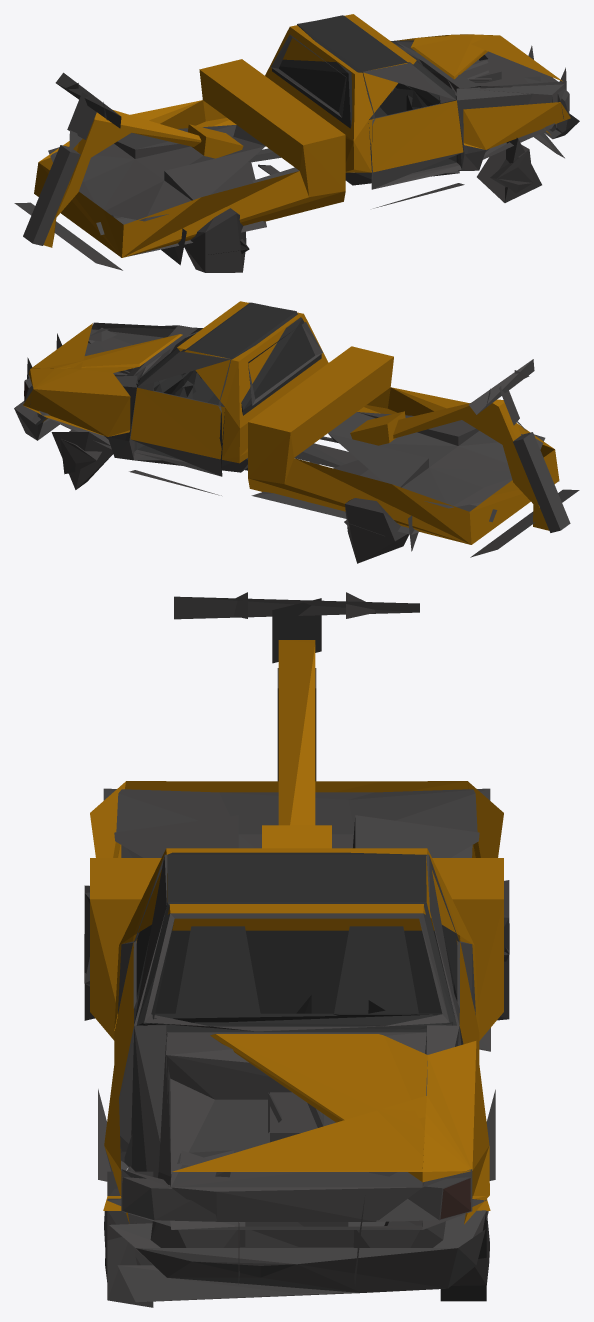
The model's file is tow-truck.lod1.glb.
3 renders of one model, top to bottom at view 1: azimuth 30°, elevation 25°; view 2: azimuth 150°, elevation 25°; view 3: azimuth 270°, elevation 25°, orthographic. The views are drawn at different scales.
Parts seen in each view (by area): view 1: UTLTRUCK90_Bumper_Front_UTLTRUCK90_Bodymat_0; view 2: UTLTRUCK90_Bumper_Front_UTLTRUCK90_Bodymat_0; view 3: UTLTRUCK90_Bumper_Front_UTLTRUCK90_Bodymat_0.
Boxes of the visible parts, <box> form: UTLTRUCK90_Bumper_Front_UTLTRUCK90_Bodymat_0: <box>14,14,579,272</box>; UTLTRUCK90_Bumper_Front_UTLTRUCK90_Bodymat_0: <box>14,301,579,563</box>; UTLTRUCK90_Bumper_Front_UTLTRUCK90_Bodymat_0: <box>84,592,509,1307</box>.
Size of the model in its own units: 5.64 by 1.75 by 1.98.
